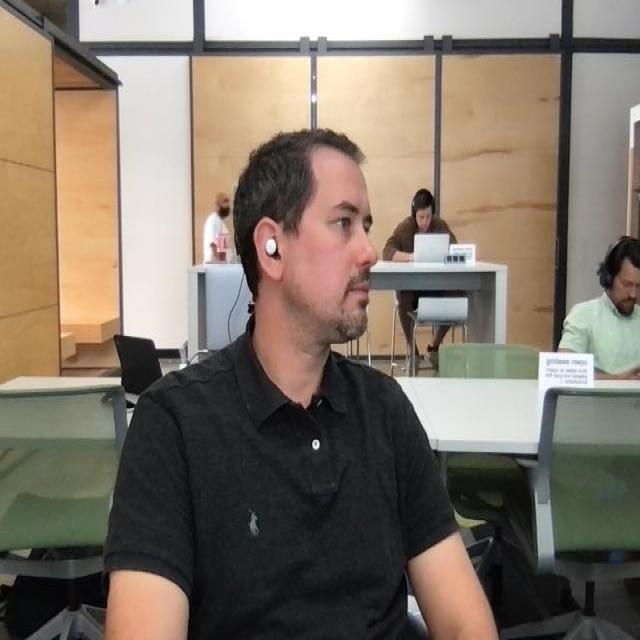face: (230, 124, 375, 348), (598, 230, 640, 318), (410, 188, 437, 233), (216, 190, 232, 222)
